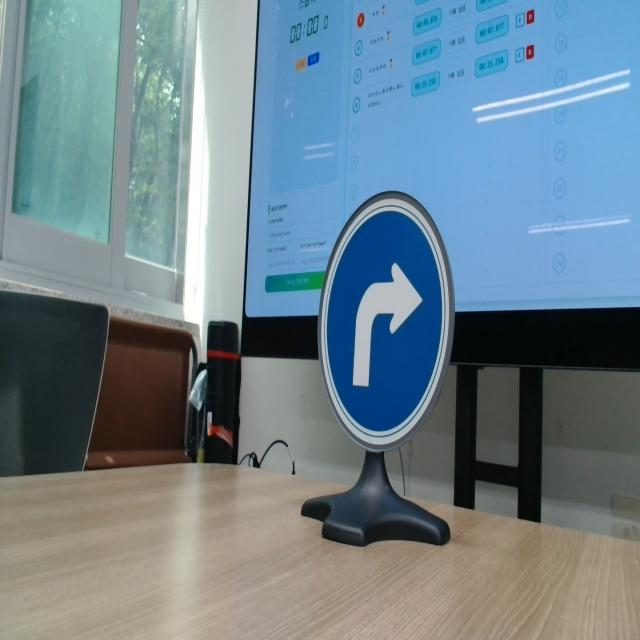right_dierection: (296, 163, 486, 520)
